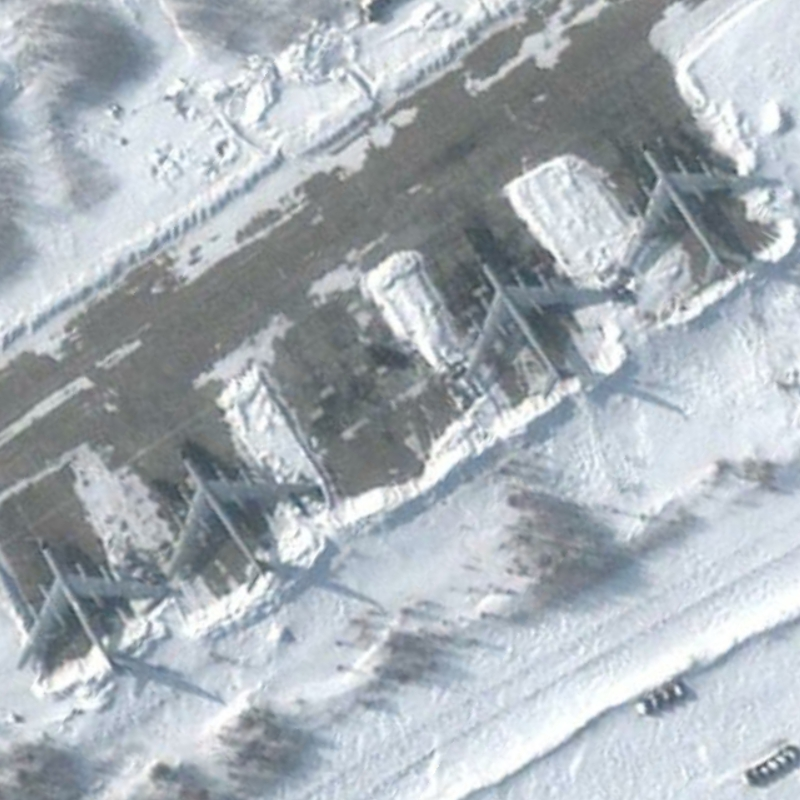A17: (449, 249, 632, 408), (613, 136, 779, 287), (159, 444, 320, 597), (10, 534, 168, 682)
